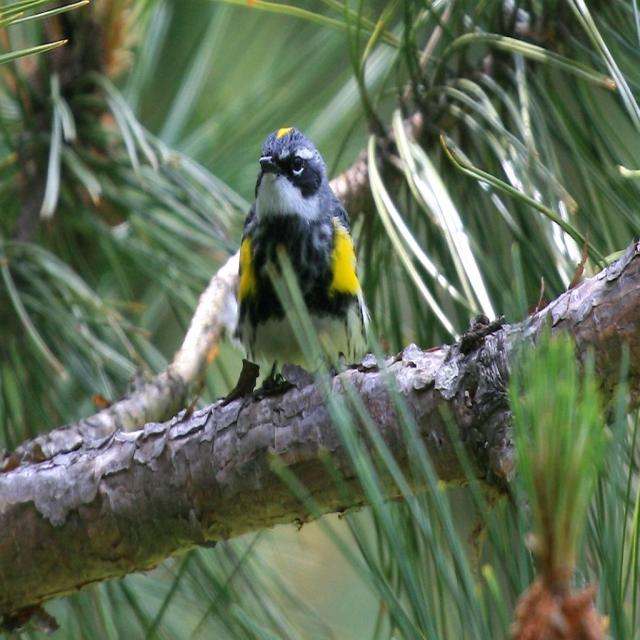bird: (227, 124, 382, 392)
